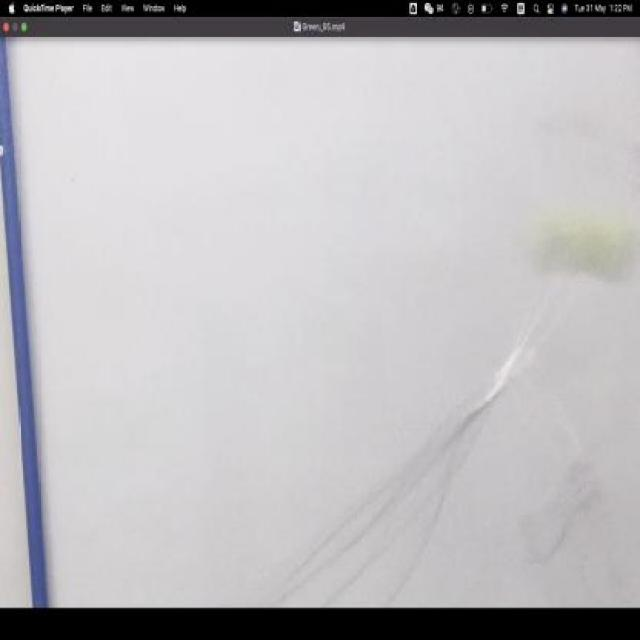baseball: (538, 192, 634, 286)
